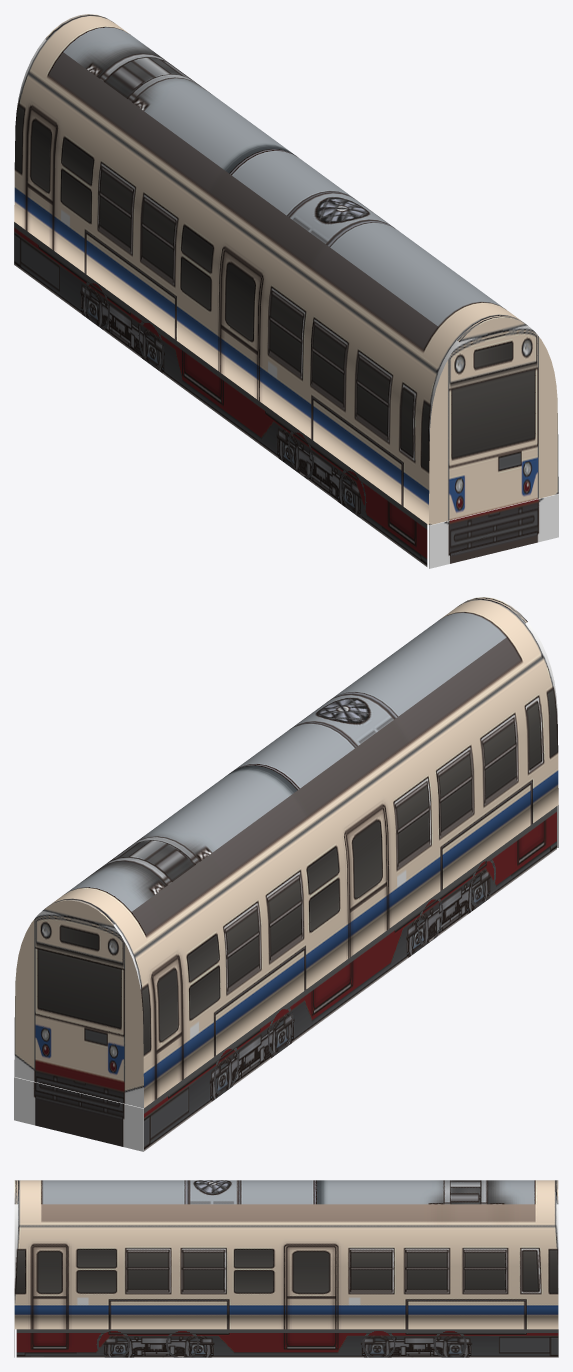
The model's file is car1.glb.
The picture shows the model from 3 angles, top to bottom: view 1: azimuth 30°, elevation 25°; view 2: azimuth 150°, elevation 25°; view 3: azimuth 270°, elevation 25°; orthographic projection. The views are drawn at different scales.
Parts seen in each view (by area): view 1: tosaden-1000-car1; view 2: tosaden-1000-car1; view 3: tosaden-1000-car1.
Part boxes in pixels (box(x1,y1,x2,y2)): tosaden-1000-car1: box(14, 14, 558, 568); tosaden-1000-car1: box(14, 597, 558, 1151); tosaden-1000-car1: box(14, 1180, 558, 1357).
Size of the model in its own units: 2.2 by 3.8 by 12.23.
9 materials, 8 textured.
